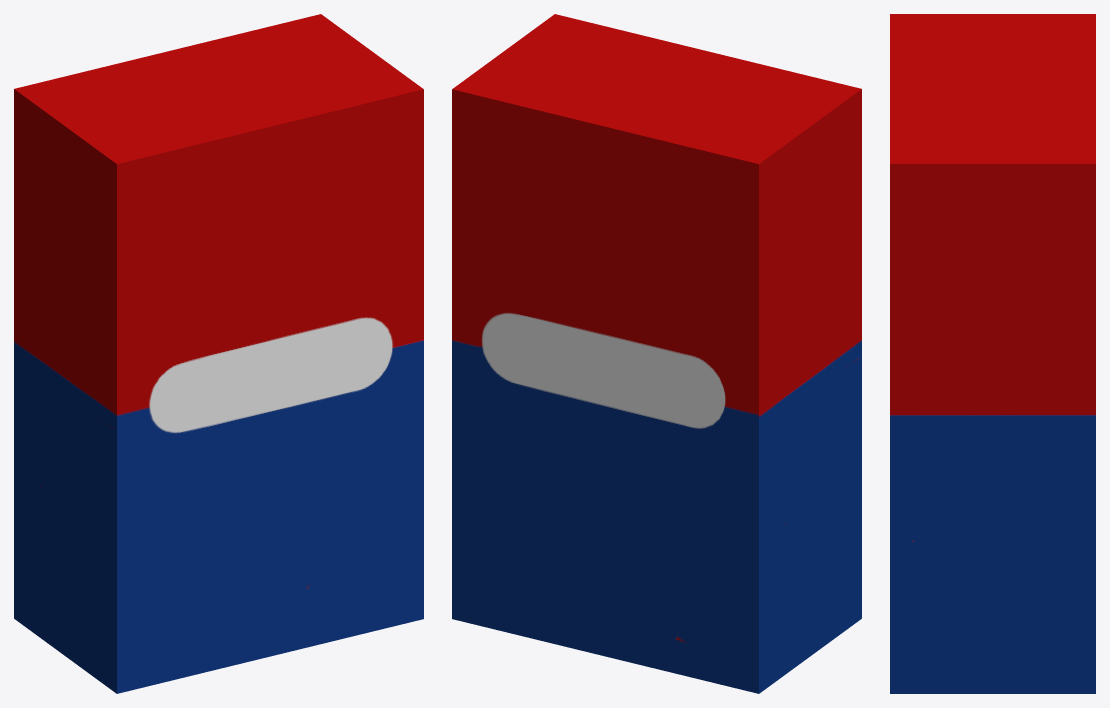
The model's file is MeelPak.fbx.
3 renders of one model, left to right at view 1: azimuth 30°, elevation 25°; view 2: azimuth 150°, elevation 25°; view 3: azimuth 270°, elevation 25°, orthographic.
Parts seen in each view (by area): view 1: pCube1; view 2: pCube1; view 3: pCube1.
Part boxes in pixels (bbox=[...]): pCube1: bbox=[14, 14, 423, 693]; pCube1: bbox=[452, 14, 861, 693]; pCube1: bbox=[890, 14, 1095, 693].
Size of the model in its own units: 2.23 by 3.68 by 1.29.
